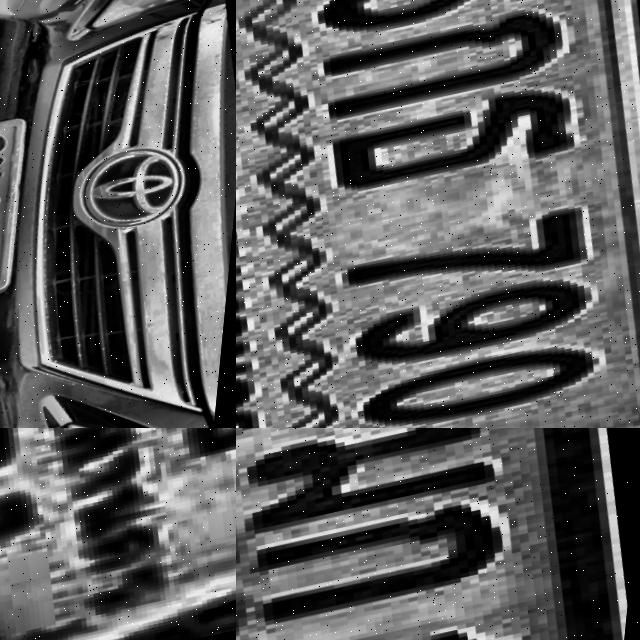license-plate: (236, 0, 640, 428), (236, 428, 640, 640), (0, 428, 236, 640), (0, 112, 73, 321)
